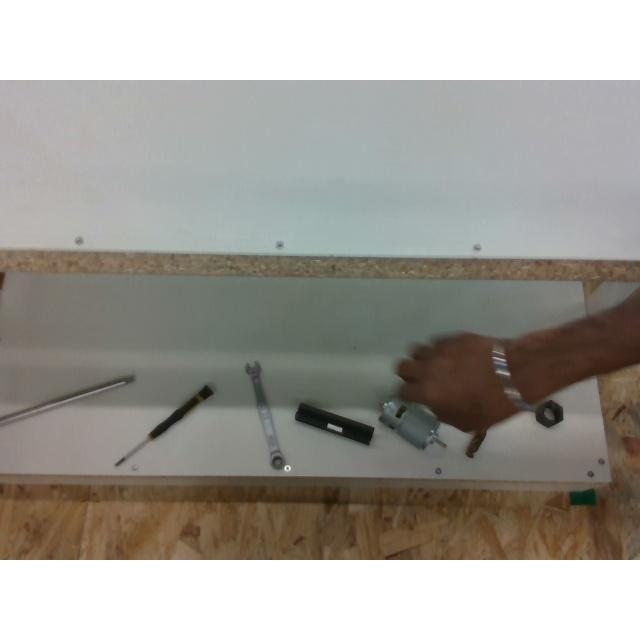AllenKey: (0, 374, 136, 426)
F20_20_B: (295, 402, 373, 444)
M20: (534, 400, 562, 426)
Motor2: (378, 397, 446, 449)
Wrench: (246, 361, 290, 472)
